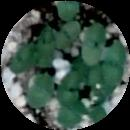Basil: (79, 24, 108, 67), (6, 42, 31, 76), (66, 63, 107, 83), (33, 28, 60, 58), (28, 74, 53, 106), (60, 75, 81, 105), (64, 103, 85, 129), (109, 44, 126, 75), (60, 24, 77, 46), (90, 100, 106, 121)
